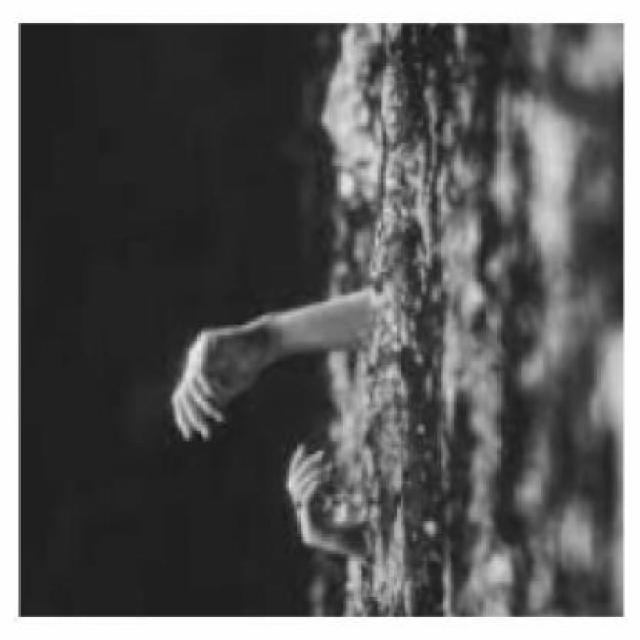drowning: (168, 278, 392, 552)
